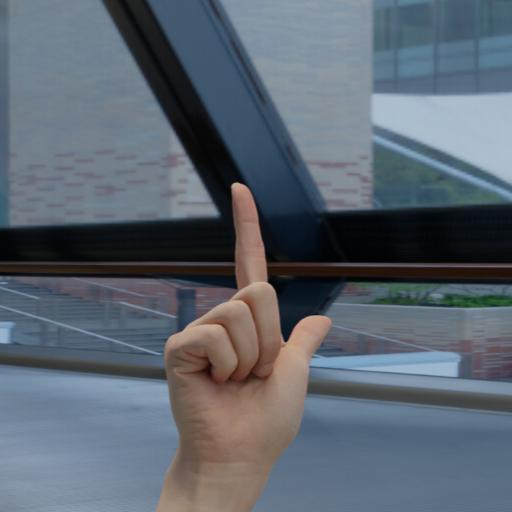L: (140, 179, 338, 477)
